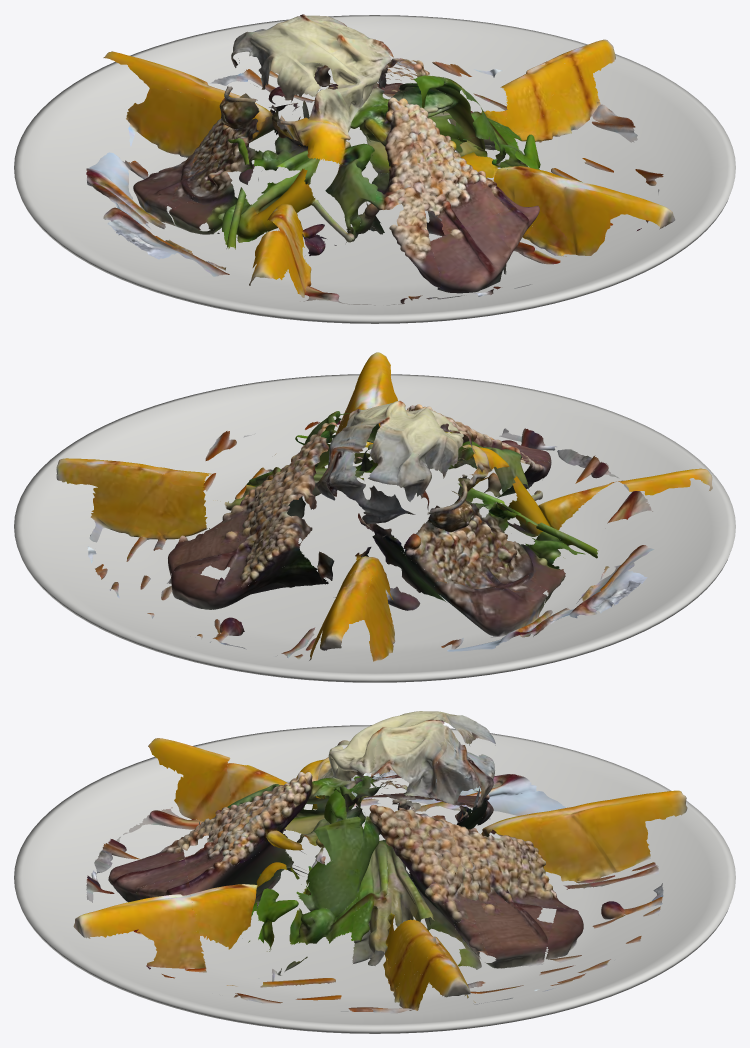
Rendered from til.glb.
3 views of the same model, one above another, from view 1: azimuth 30°, elevation 25°; view 2: azimuth 150°, elevation 25°; view 3: azimuth 270°, elevation 25° (orthographic).
Parts seen in each view (by area): view 1: tripo_node_52b18796-625c-49c6-b762-bfabcb44e1c7, plate; view 2: plate, tripo_node_52b18796-625c-49c6-b762-bfabcb44e1c7; view 3: tripo_node_52b18796-625c-49c6-b762-bfabcb44e1c7, plate.
Boxes of the visible parts, x1,y1,x2,y2 form: tripo_node_52b18796-625c-49c6-b762-bfabcb44e1c7: (86,14,675,305); plate: (14,15,735,323); plate: (14,374,735,682); tripo_node_52b18796-625c-49c6-b762-bfabcb44e1c7: (56,352,712,661); tripo_node_52b18796-625c-49c6-b762-bfabcb44e1c7: (73,711,687,1013); plate: (14,725,735,1033).
Bounding box in the file's own units: 0.9 × 0.2582 × 0.9.
Materials: 2 (1 with a texture image).
